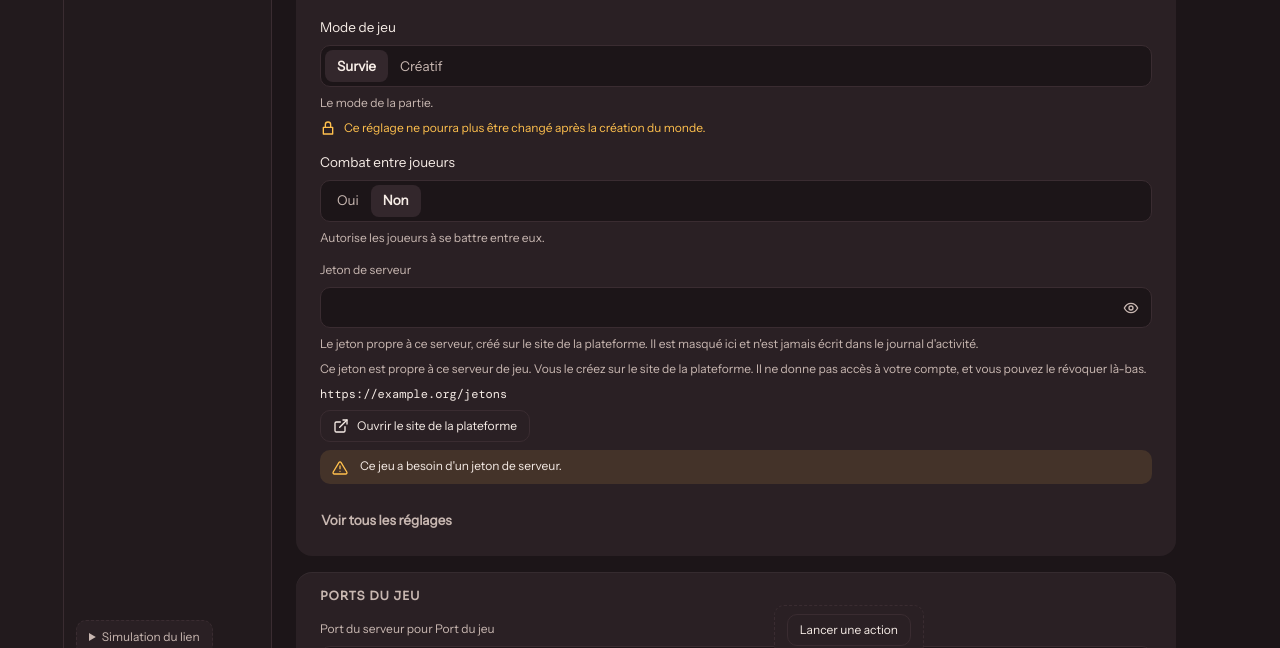
it: l'étape « Ressources » (BR-FICHE-020 à 023, BR-RES-037) › ramène une recommandation au-dessus de la machine à sa capacité et le dit
(page scrolled)
Type "jeton-du-serveur" into the password field labelled "Jeton de serveur" at coordinates (716, 308), box [321,288,1111,327]
Wait 450 ms
(page scrolled)
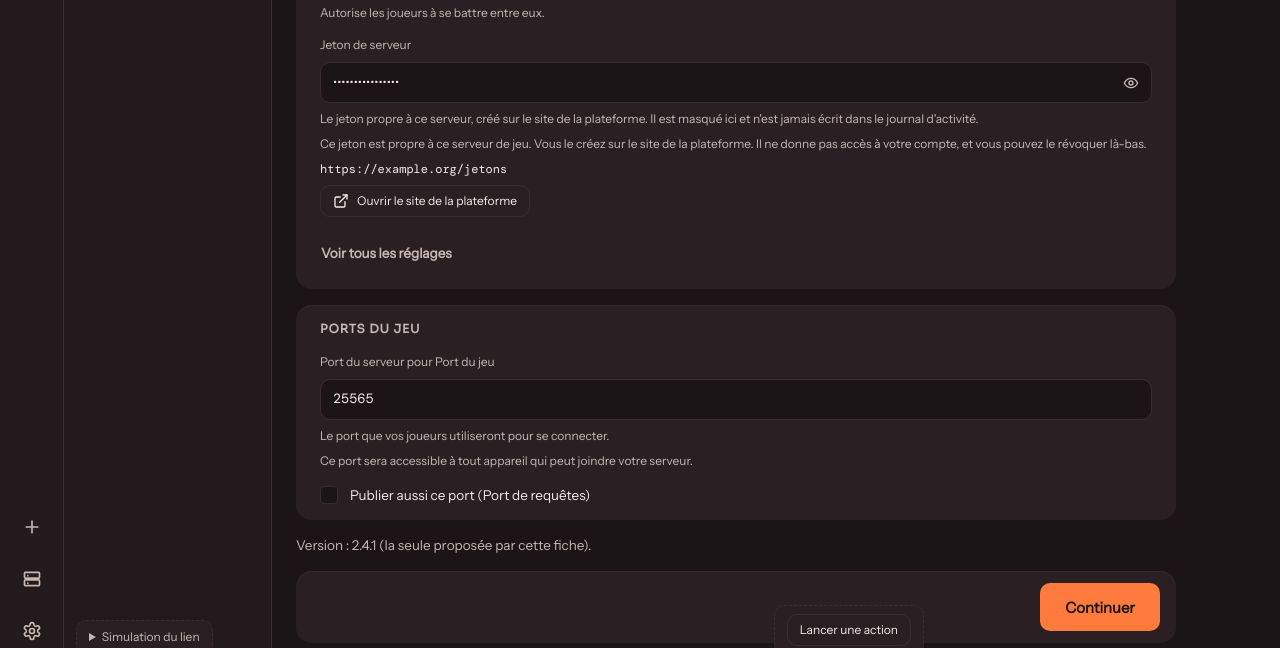
Click the button "Continuer" at coordinates (1100, 607), box [1040,583,1160,631]
Wait 450 ms
(page scrolled)
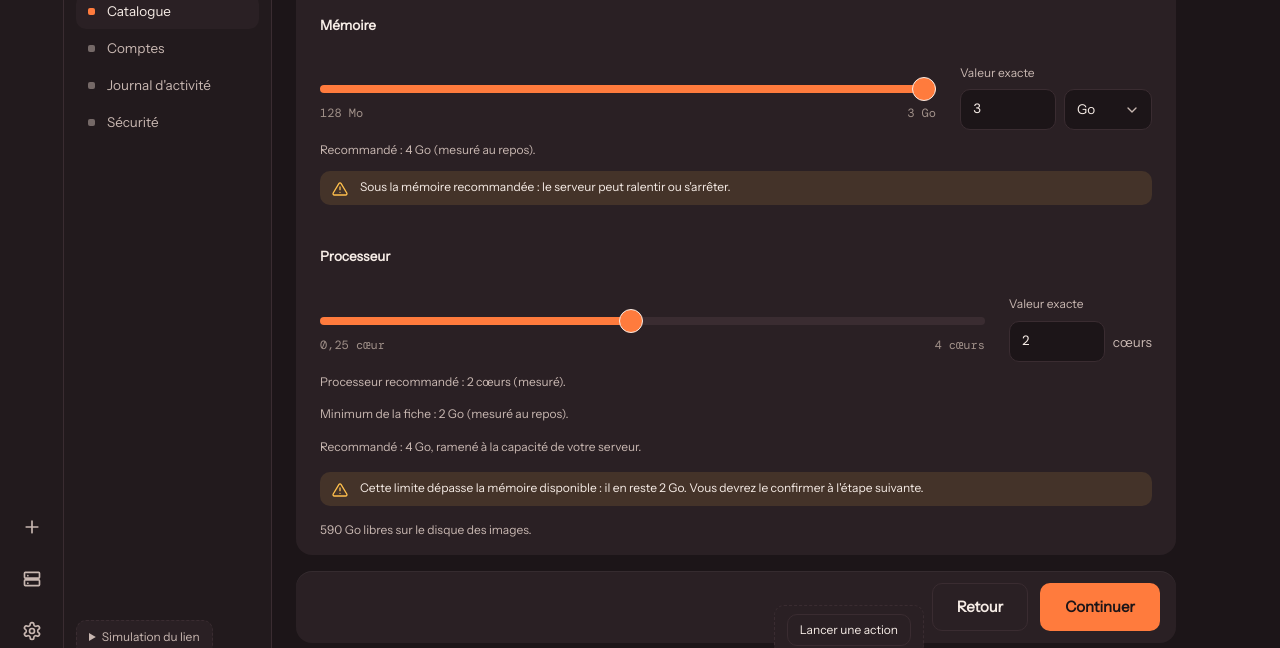
Now the text "Recommandé : 4 Go, ramené à la capacité de votre serveur." is shown, box [320,439,641,454]
